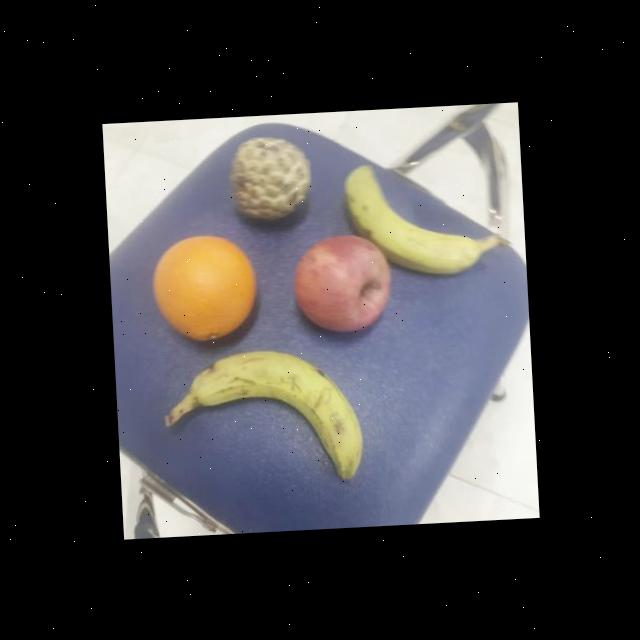Sakya fruit: (226, 130, 316, 222)
apple: (287, 229, 396, 336)
banana: (182, 342, 371, 486), (337, 151, 481, 281)
orange: (146, 228, 260, 346)
